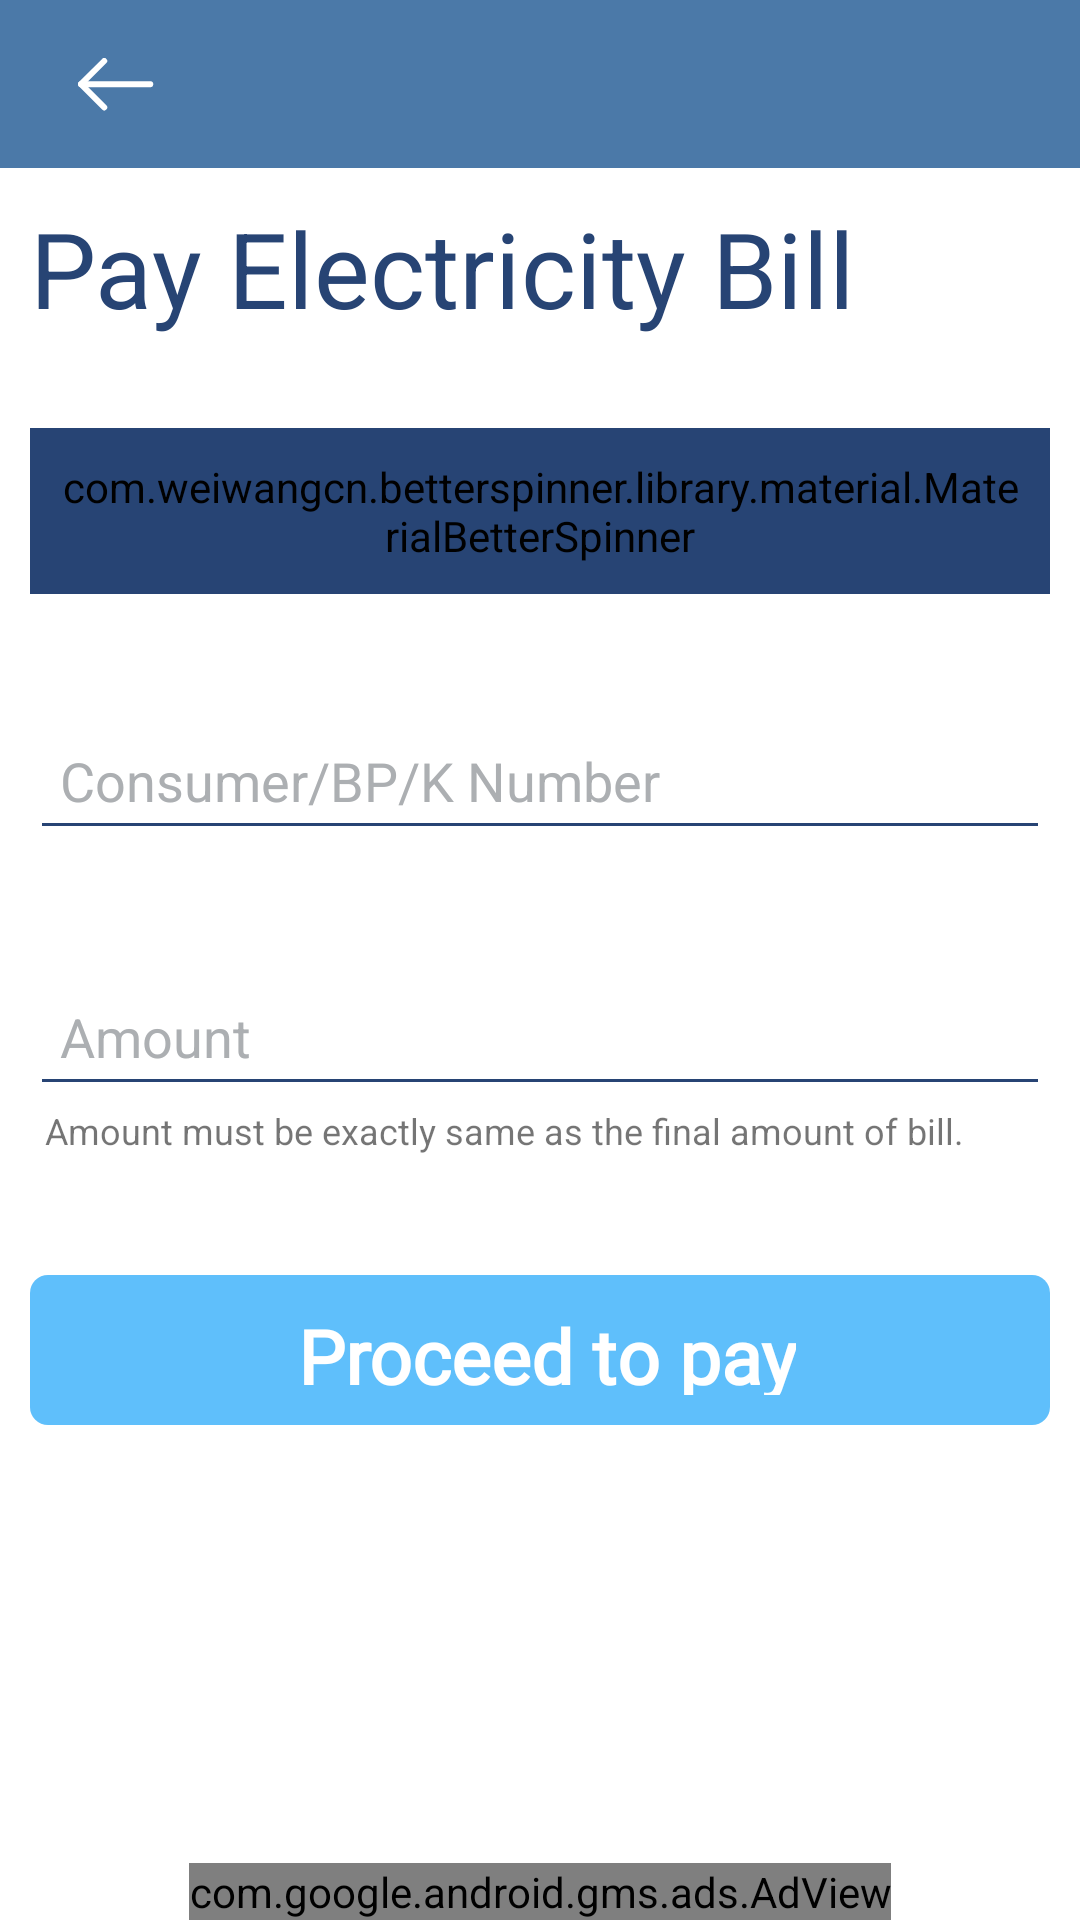

Screen size 1080w x 1920h. Icon name, then its center in pixels as point (x, y):
back: point (116, 84)
